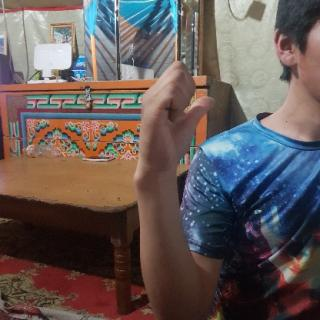WAW: (133, 58, 218, 188)
